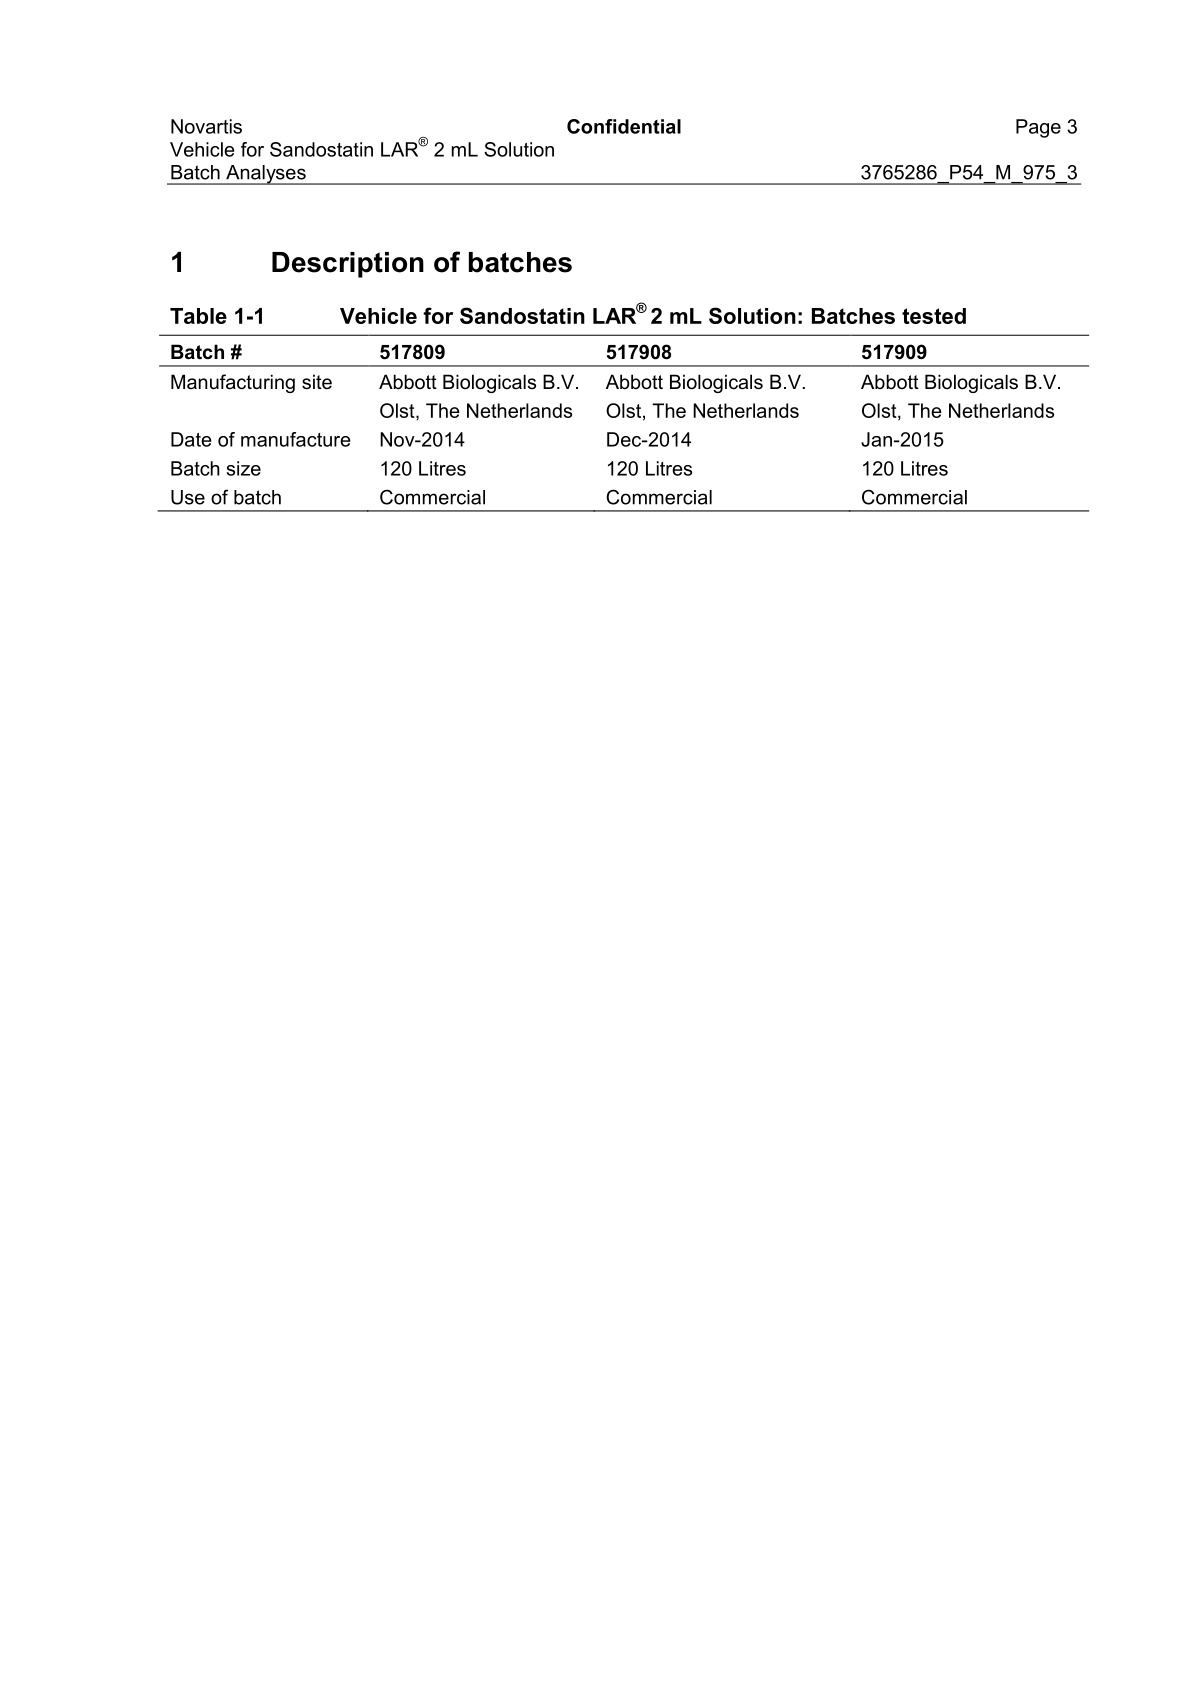partial_lined: (157, 332, 1090, 513)
